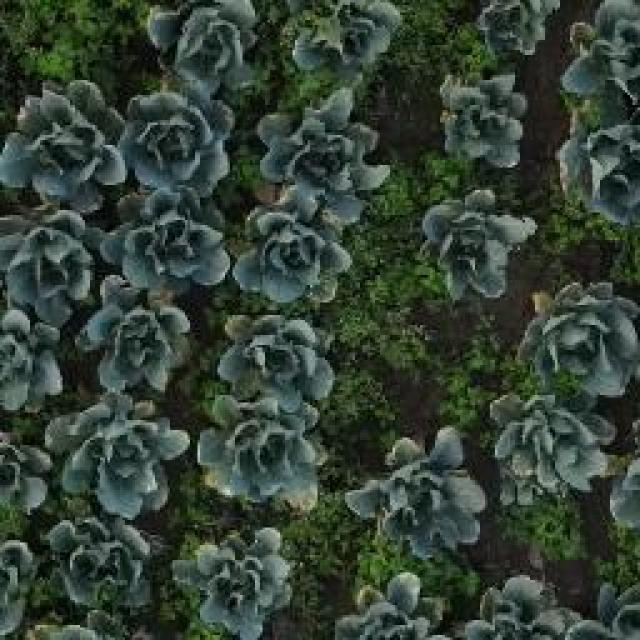cabbage: (44, 394, 192, 514), (351, 424, 481, 556), (0, 75, 128, 205), (195, 392, 324, 520), (254, 89, 390, 206), (487, 388, 622, 504), (100, 184, 234, 298), (515, 273, 640, 395), (114, 82, 236, 203), (171, 523, 298, 639), (78, 275, 194, 394), (422, 182, 535, 300), (230, 207, 358, 310), (218, 308, 344, 412), (42, 514, 160, 618), (0, 201, 101, 313), (144, 0, 263, 95), (292, 0, 402, 90), (555, 106, 640, 212), (438, 72, 528, 164)
